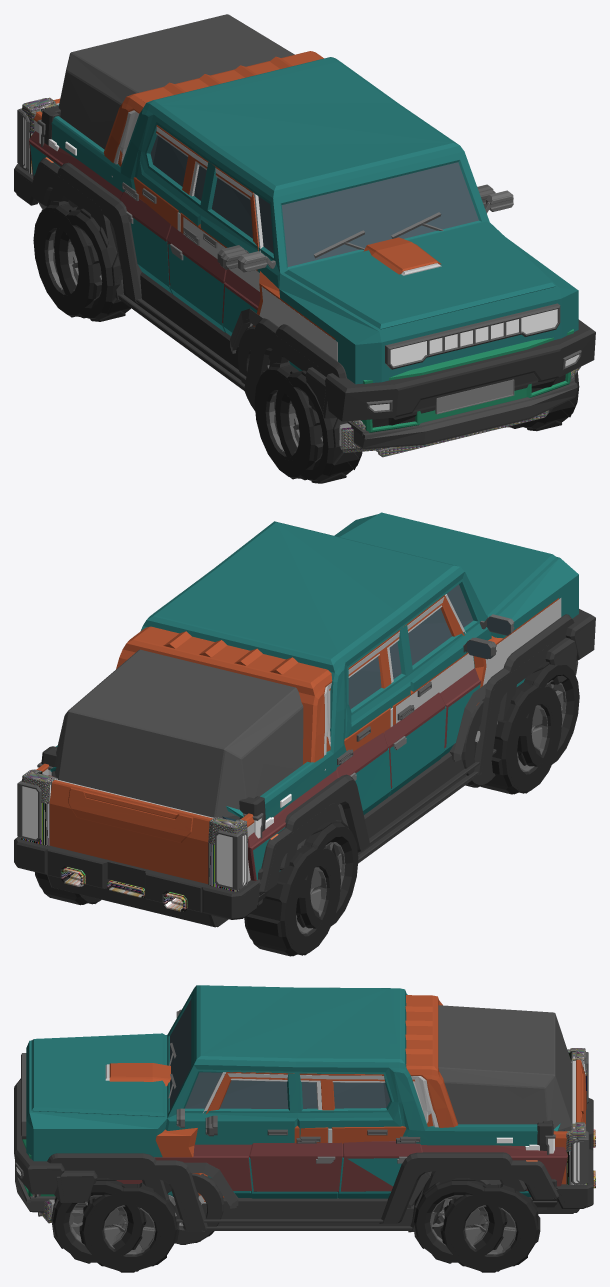
File: cars.glb
3 renders of one model, top to bottom at view 1: azimuth 30°, elevation 25°; view 2: azimuth 150°, elevation 25°; view 3: azimuth 270°, elevation 25°, orthographic. The views are drawn at different scales.
Parts seen in each view (by area): view 1: Object548, Object545, Object551, Object570, Object568, Object557; view 2: Object548, Object551, Object545, Object568, Object557; view 3: Object548, Object551, Object545, Object557, Object568, Object570.
Boxes of the visible parts, box(x1,y1,x2,y2) form: Object548: box(34, 57, 595, 483); Object545: box(16, 14, 580, 480); Object551: box(14, 51, 493, 460); Object570: box(353, 329, 577, 449); Object568: box(30, 104, 302, 410); Object557: box(29, 131, 269, 379); Object548: box(37, 512, 595, 928); Object551: box(14, 595, 574, 956); Object545: box(34, 594, 576, 956); Object568: box(50, 678, 554, 902); Object557: box(48, 668, 548, 890); Object548: box(14, 985, 556, 1263); Object551: box(37, 995, 595, 1271); Object545: box(32, 1005, 585, 1272); Object557: box(77, 1141, 567, 1241); Object568: box(75, 1123, 560, 1244); Object570: box(15, 1139, 543, 1212).
Bounding box in the file's own units: 2.38 × 2.09 × 5.4.
Materials: 1 (1 with a texture image).
